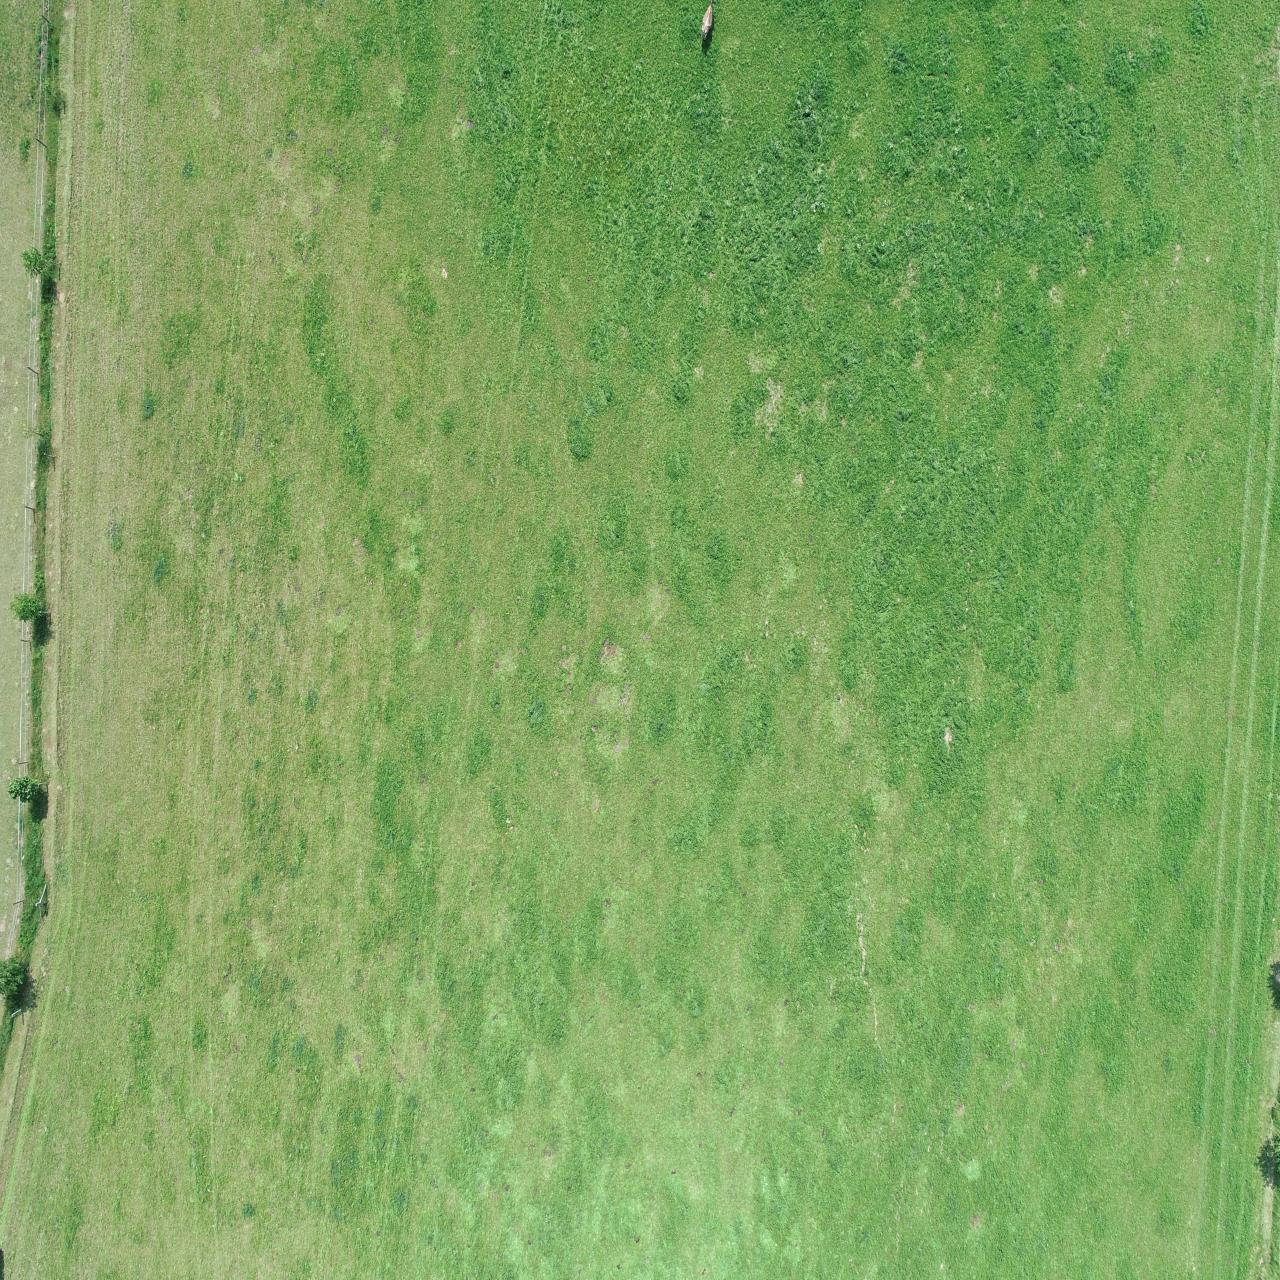cow: (696, 0, 719, 49)
